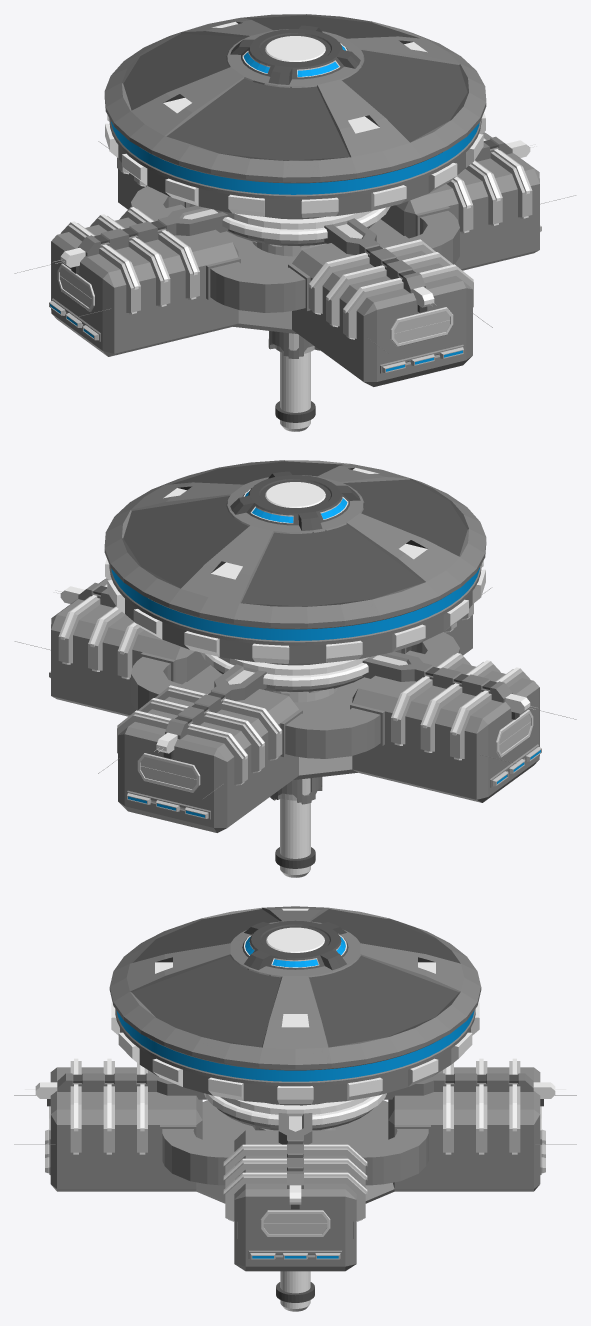
Rendered from station_03.glb.
3 views of the same model, one above another, from view 1: azimuth 30°, elevation 25°; view 2: azimuth 150°, elevation 25°; view 3: azimuth 270°, elevation 25° (orthographic). The views are drawn at different scales.
Visible parts, largest first — view 1: Mesh_HD.001, obj.hanger.001, Docking_HD, Ring_HD, house-frontplate.004, 큐브.001, house-frontplate.001; view 2: Mesh_HD.001, obj.hanger.001, Docking_HD, Ring_HD, house-frontplate.003, 큐브.001, house-frontplate.001; view 3: Mesh_HD.001, obj.hanger.001, Docking_HD, Ring_HD, house-frontplate.002, 큐브.001.
Part boxes in pixels (box(x1,y1,x2,y2)): Mesh_HD.001: box(104, 14, 486, 431); obj.hanger.001: box(51, 132, 539, 386); Docking_HD: box(60, 136, 532, 339); Ring_HD: box(109, 118, 481, 199); house-frontplate.004: box(390, 307, 453, 346); 큐브.001: box(49, 225, 541, 373); house-frontplate.001: box(57, 263, 94, 311); Mesh_HD.001: box(104, 460, 486, 877); obj.hanger.001: box(51, 578, 539, 832); Docking_HD: box(58, 582, 530, 785); Ring_HD: box(109, 564, 481, 645); house-frontplate.003: box(137, 753, 200, 792); 큐브.001: box(49, 671, 541, 819); house-frontplate.001: box(496, 709, 533, 757); Mesh_HD.001: box(109, 906, 481, 1311); obj.hanger.001: box(50, 1067, 540, 1271); Docking_HD: box(35, 1058, 555, 1221); Ring_HD: box(115, 1009, 475, 1086); house-frontplate.002: box(260, 1210, 330, 1237); 큐브.001: box(45, 1129, 545, 1259).
Size of the model in its own units: 26 by 18.7 by 26.
